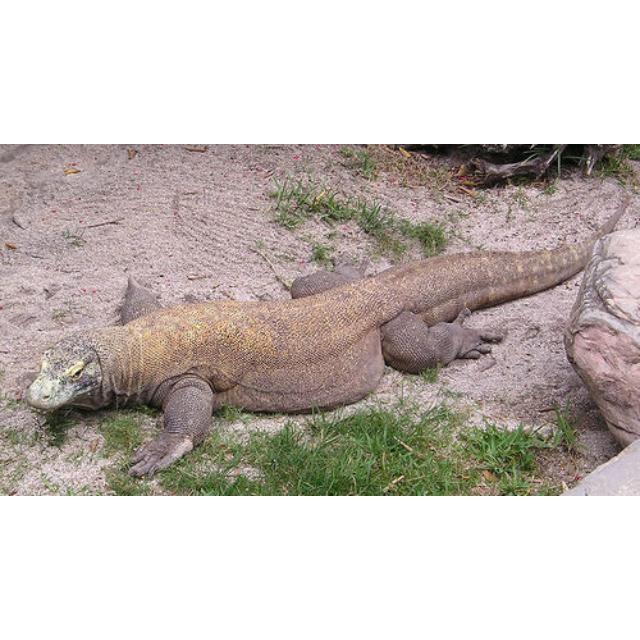KomodoDragon: (23, 187, 629, 480)
